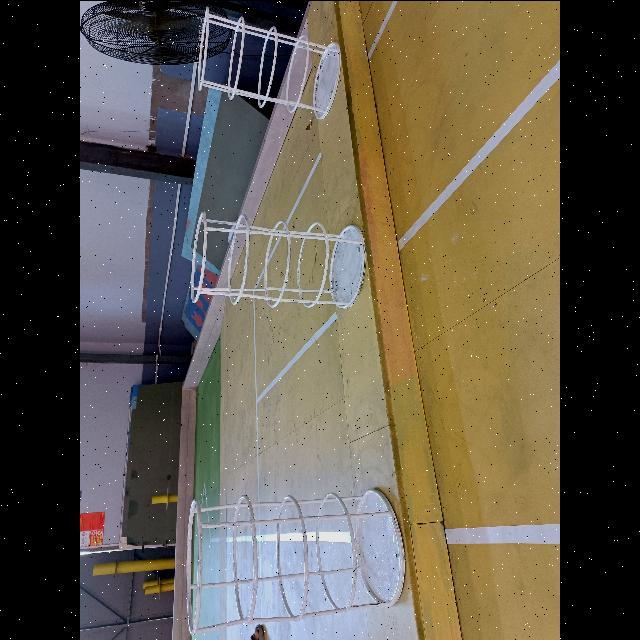S: (187, 489, 406, 634), (192, 213, 366, 310), (197, 6, 342, 121)
